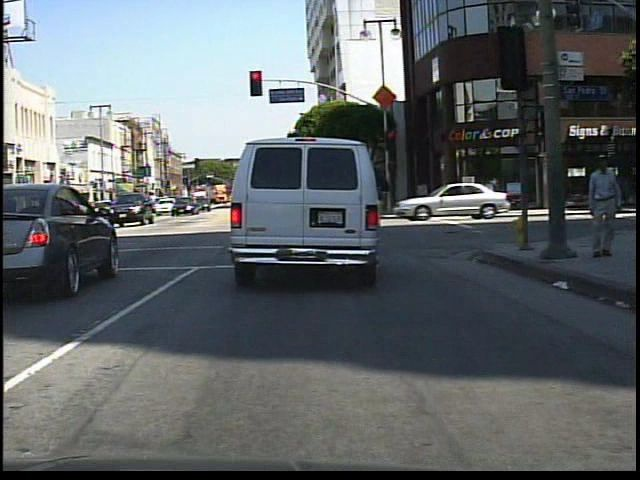person: (584, 149, 626, 261)
